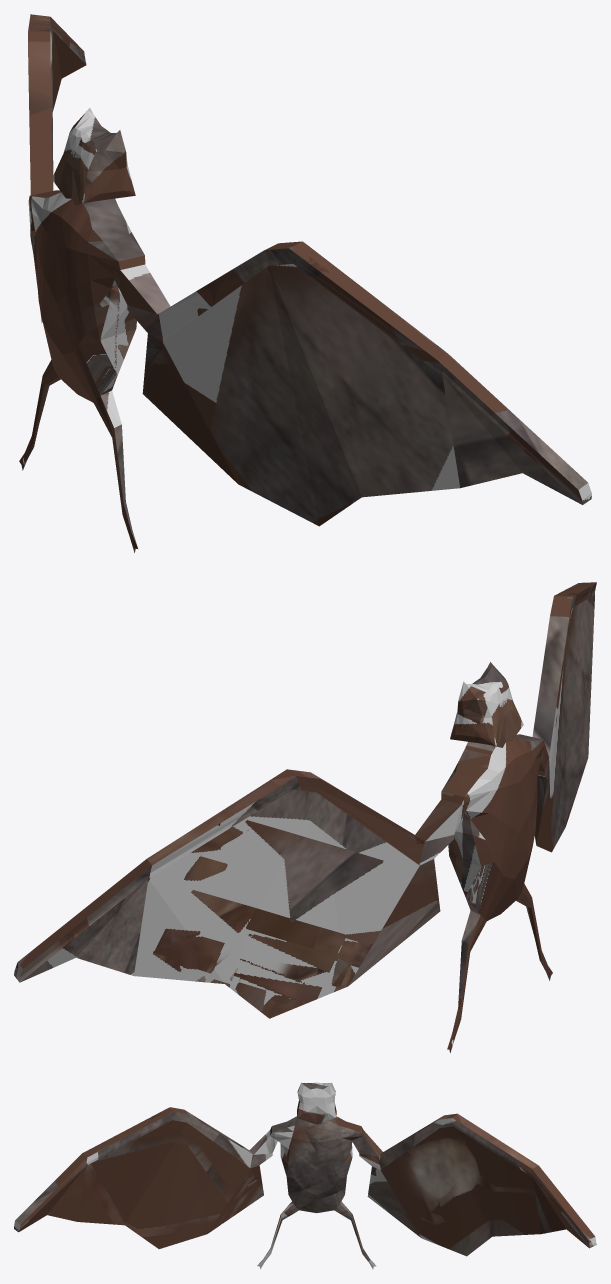
Rendered from Enemigo124.obj.
3 views of the same model, one above another, from view 1: azimuth 30°, elevation 25°; view 2: azimuth 150°, elevation 25°; view 3: azimuth 270°, elevation 25° (orthographic). The views are drawn at different scales.
Visible parts, largest first — view 1: Plano; view 2: Plano; view 3: Plano.
Part boxes in pixels (x1,y1,x2,y2): Plano: (19, 14, 591, 552); Plano: (14, 582, 596, 1052); Plano: (14, 1082, 596, 1268).
Size of the model in its own units: 0.6203 by 0.7578 by 2.07.
1 material, 1 textured.
